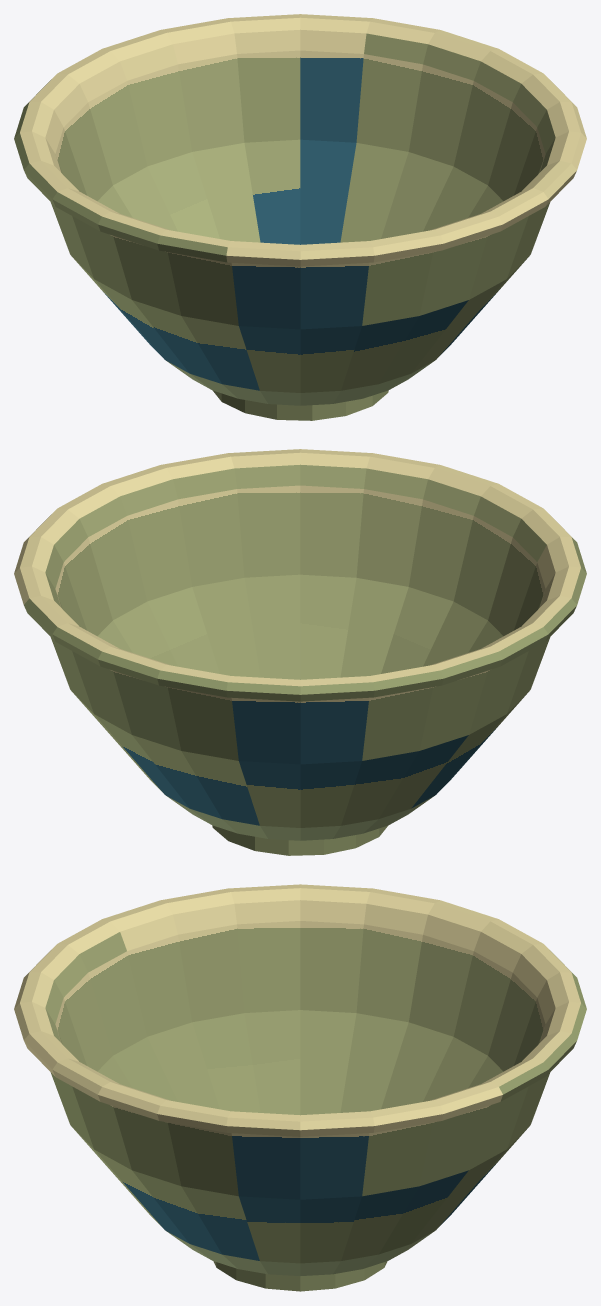
Rendered from vessel-tsuboya.glb.
3 renders of one model, top to bottom at view 1: azimuth 30°, elevation 25°; view 2: azimuth 150°, elevation 25°; view 3: azimuth 270°, elevation 25°, orthographic.
Parts seen in each view (by area): view 1: vessel-tsuboya/complete-inner-outer-shell-with-drainage, vessel-tsuboya/complete-open-foot-ring; view 2: vessel-tsuboya/complete-inner-outer-shell-with-drainage, vessel-tsuboya/complete-open-foot-ring; view 3: vessel-tsuboya/complete-inner-outer-shell-with-drainage, vessel-tsuboya/complete-open-foot-ring.
Boxes of the visible parts, x1=… form: vessel-tsuboya/complete-inner-outer-shell-with-drainage: x1=14, y1=14, x2=586, y2=405; vessel-tsuboya/complete-open-foot-ring: x1=213, y1=390, x2=388, y2=420; vessel-tsuboya/complete-inner-outer-shell-with-drainage: x1=14, y1=449, x2=586, y2=840; vessel-tsuboya/complete-open-foot-ring: x1=212, y1=825, x2=387, y2=855; vessel-tsuboya/complete-inner-outer-shell-with-drainage: x1=14, y1=884, x2=586, y2=1275; vessel-tsuboya/complete-open-foot-ring: x1=213, y1=1261, x2=387, y2=1291.
Bounding box in the file's own units: 0.421 × 0.2039 × 0.421.
Materials: 1 (1 with a texture image).
